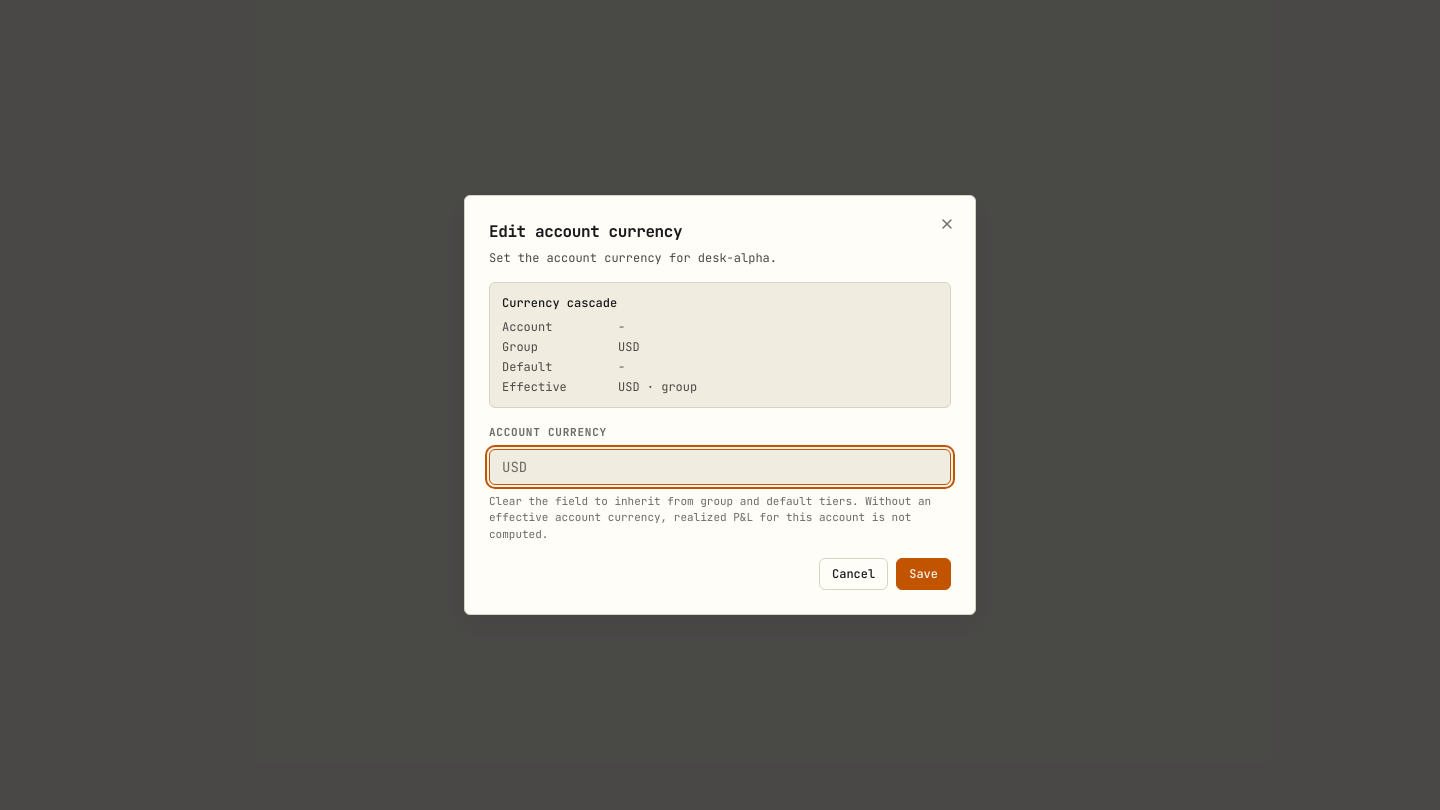
Scenario: AccountCurrencyDialog › sets the account's own currency
Step 1. Type " EUR " into the dropdown labelled "Account currency" → {"x": 720, "y": 466}, box [489,448,951,484]
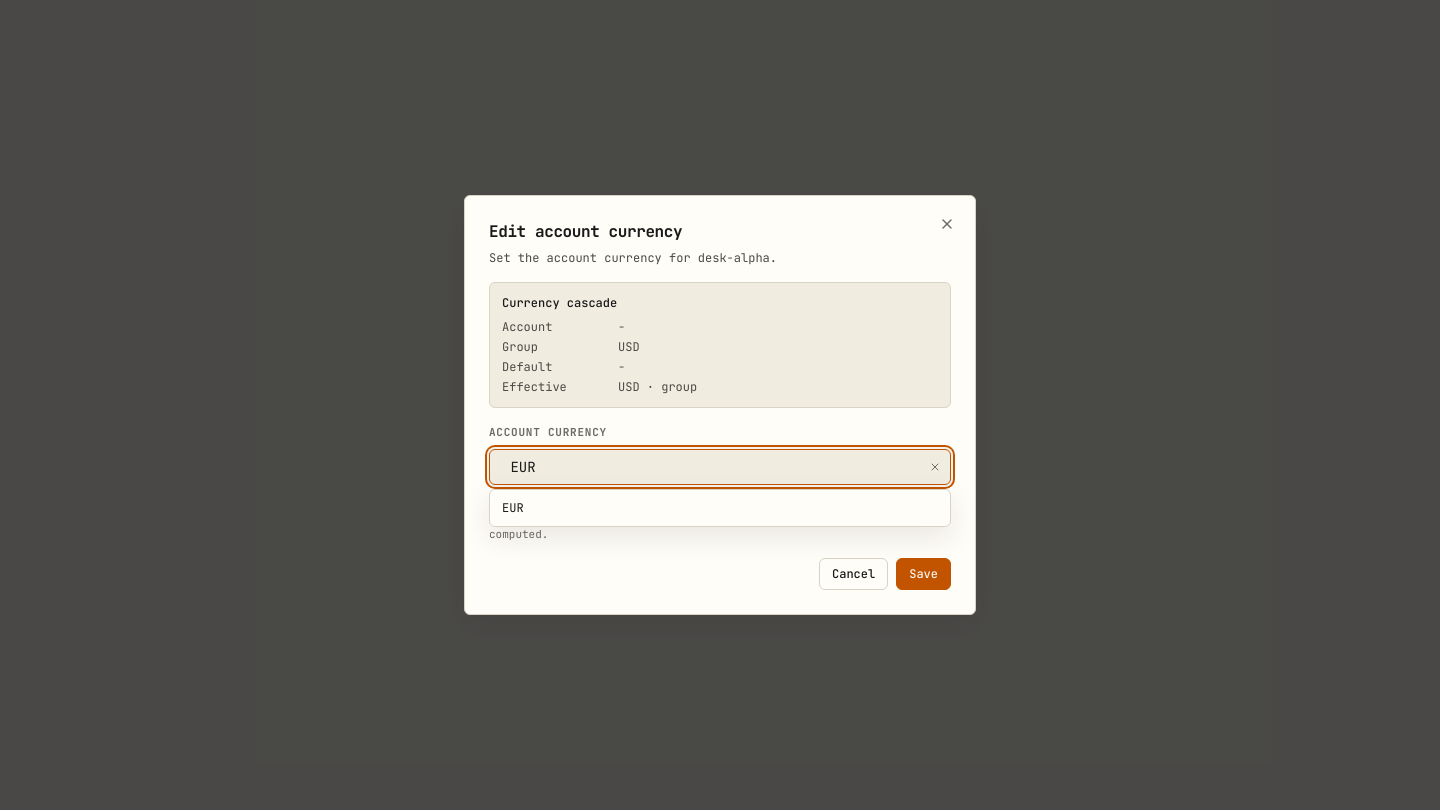
Now the list is shown, box [489,488,951,526]
Step 2. Click the button "Save" → {"x": 924, "y": 574}, box [896,558,951,590]
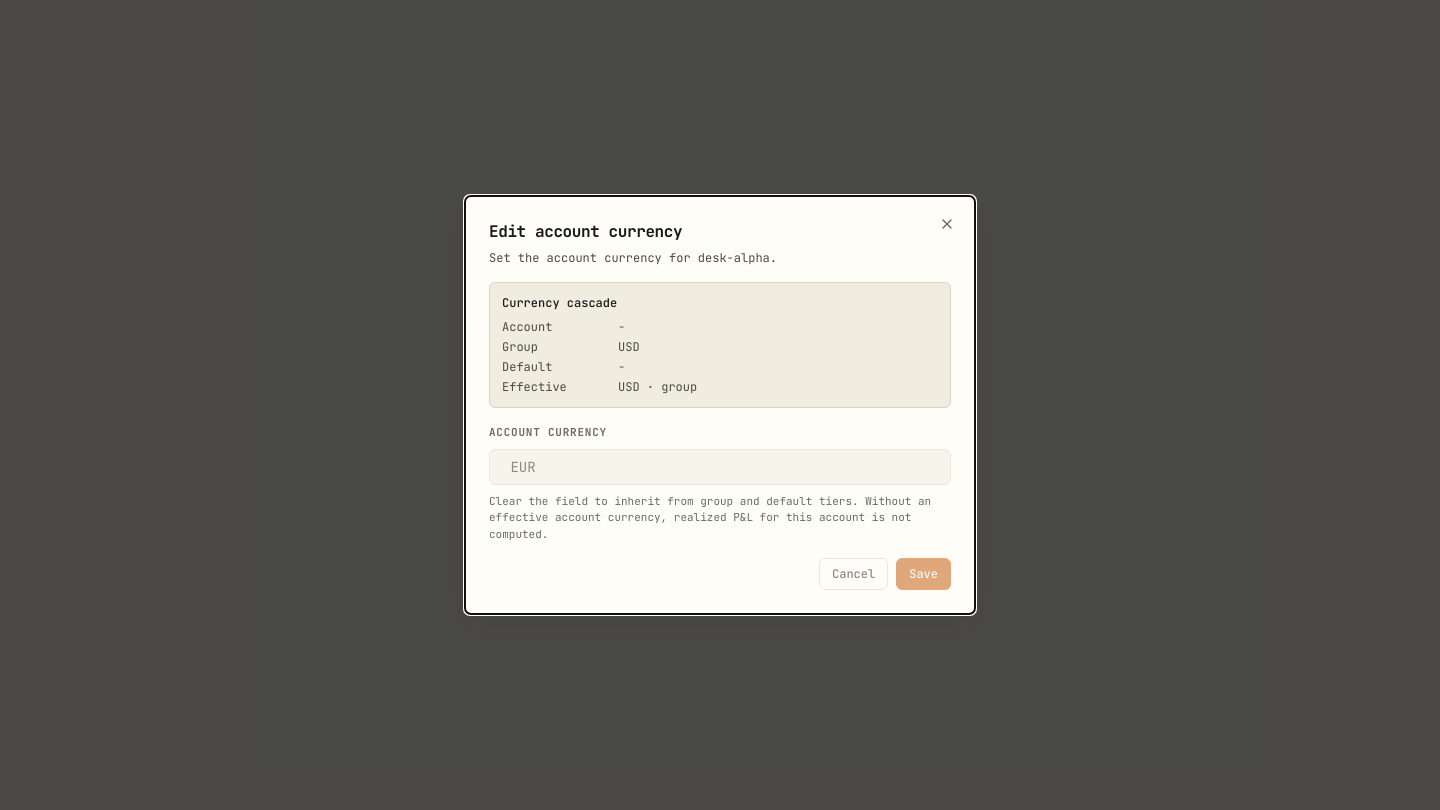
Now the list is gone
